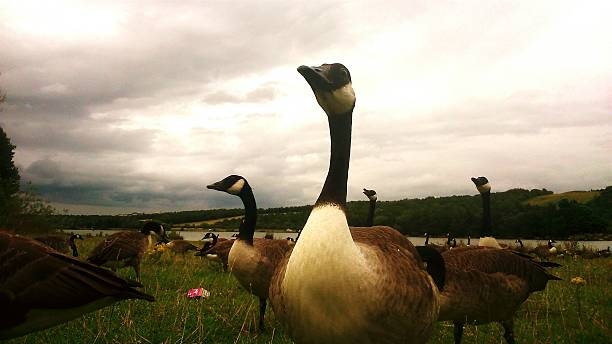goose: (263, 61, 439, 341), (206, 174, 290, 294), (90, 220, 168, 280), (467, 173, 502, 253), (360, 184, 382, 230), (202, 231, 228, 260), (69, 233, 85, 259), (512, 237, 527, 253), (546, 237, 558, 254), (423, 231, 430, 246), (464, 233, 471, 248), (444, 231, 450, 247), (450, 237, 457, 250)
